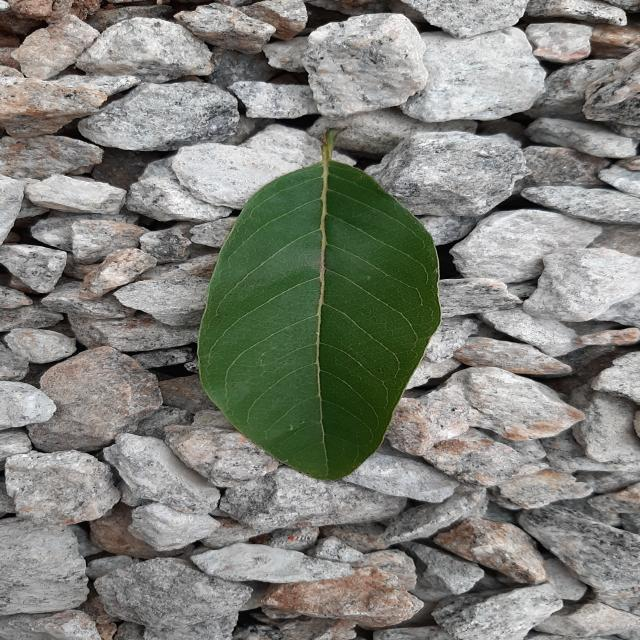seethaphala: (198, 134, 439, 480)
